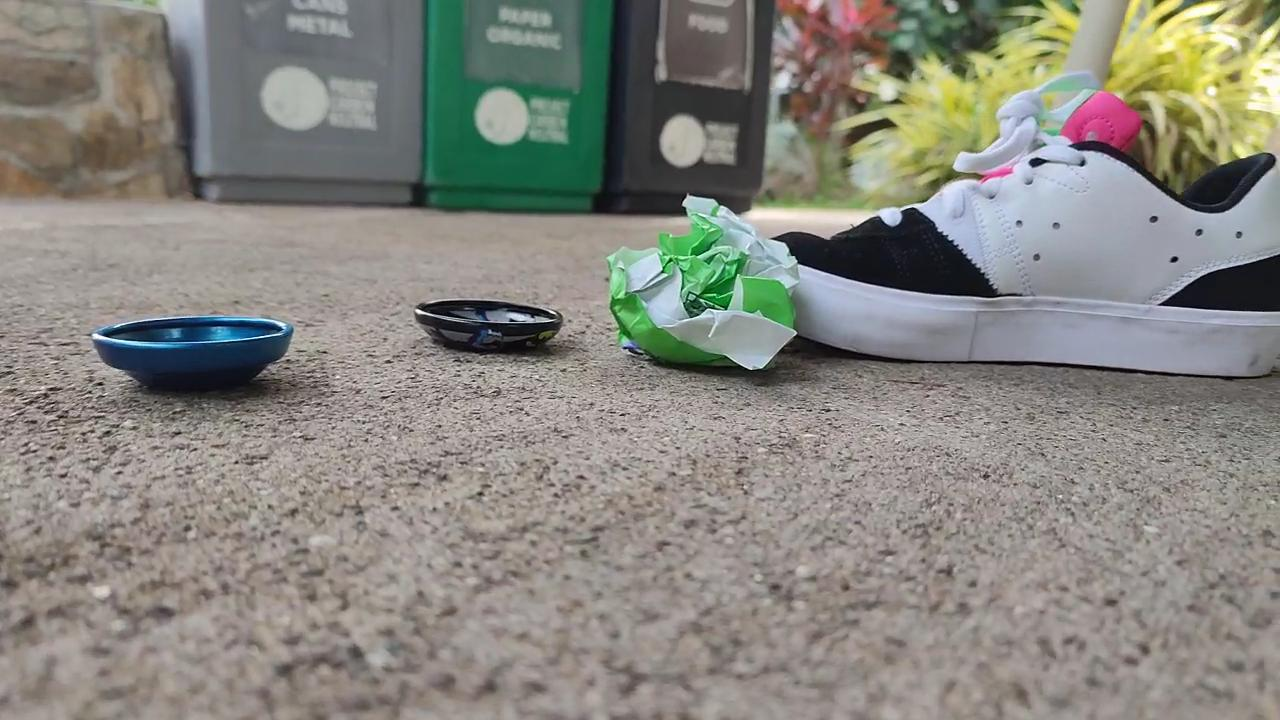Paper: (594, 180, 804, 386)
